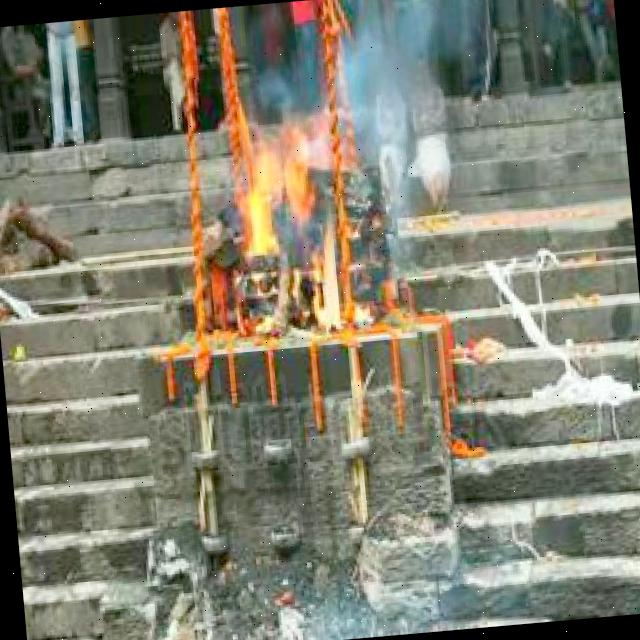fire: (224, 119, 347, 342)
